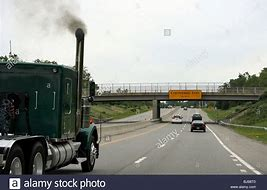smoke: (9, 1, 87, 36)
